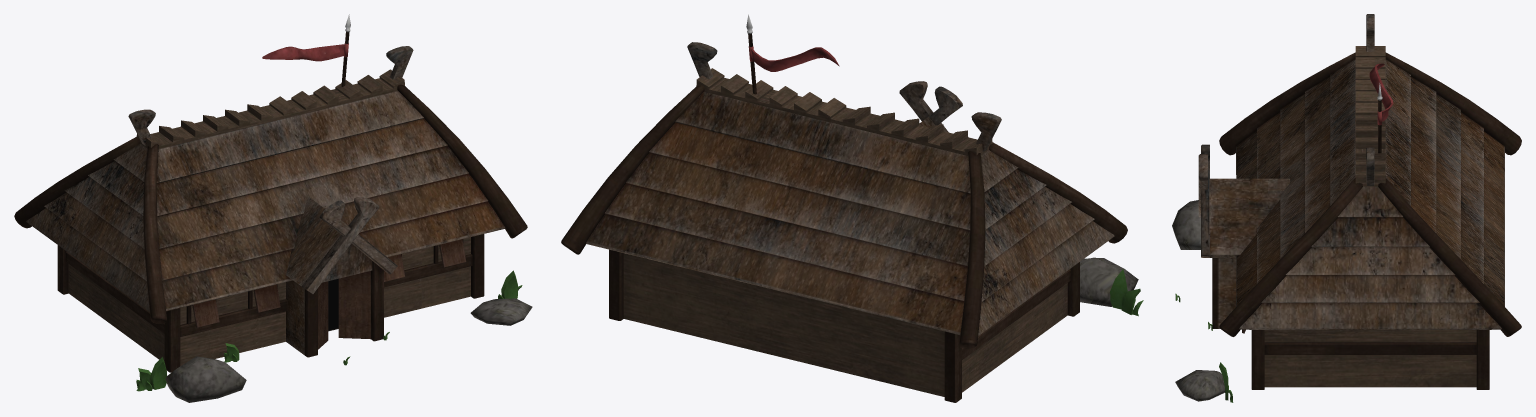
Rendered from loly_ploy_village_house_free.glb.
The picture shows the model from 3 angles, left to right: view 1: azimuth 30°, elevation 25°; view 2: azimuth 150°, elevation 25°; view 3: azimuth 270°, elevation 25°; orthographic projection. The views are drawn at different scales.
Visible parts, largest first — view 1: defaultMaterial (×9), Box401; view 2: defaultMaterial (×7), Box401; view 3: defaultMaterial (×7), Box401.
Part boxes in pixels (bbox=[...]): defaultMaterial (×9): bbox=[14, 44, 532, 402]; Box401: bbox=[68, 43, 470, 365]; defaultMaterial (×7): bbox=[561, 42, 1143, 402]; Box401: bbox=[623, 46, 1067, 396]; defaultMaterial (×7): bbox=[1172, 14, 1521, 401]; Box401: bbox=[1209, 110, 1476, 387].
Bounding box in the file's own units: 2 × 1.26 × 1.47.
Materials: 1 (1 with a texture image).
